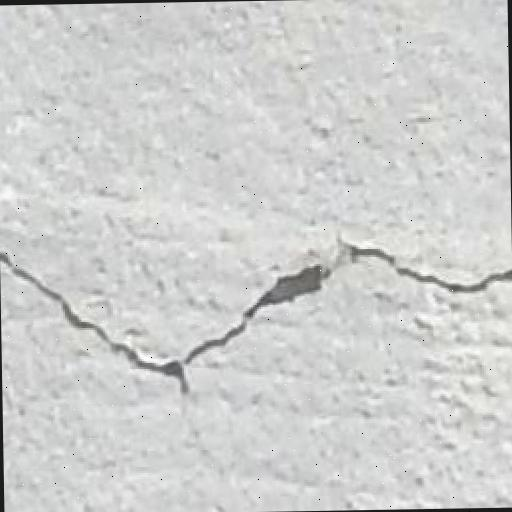spalling: (6, 226, 510, 393)
